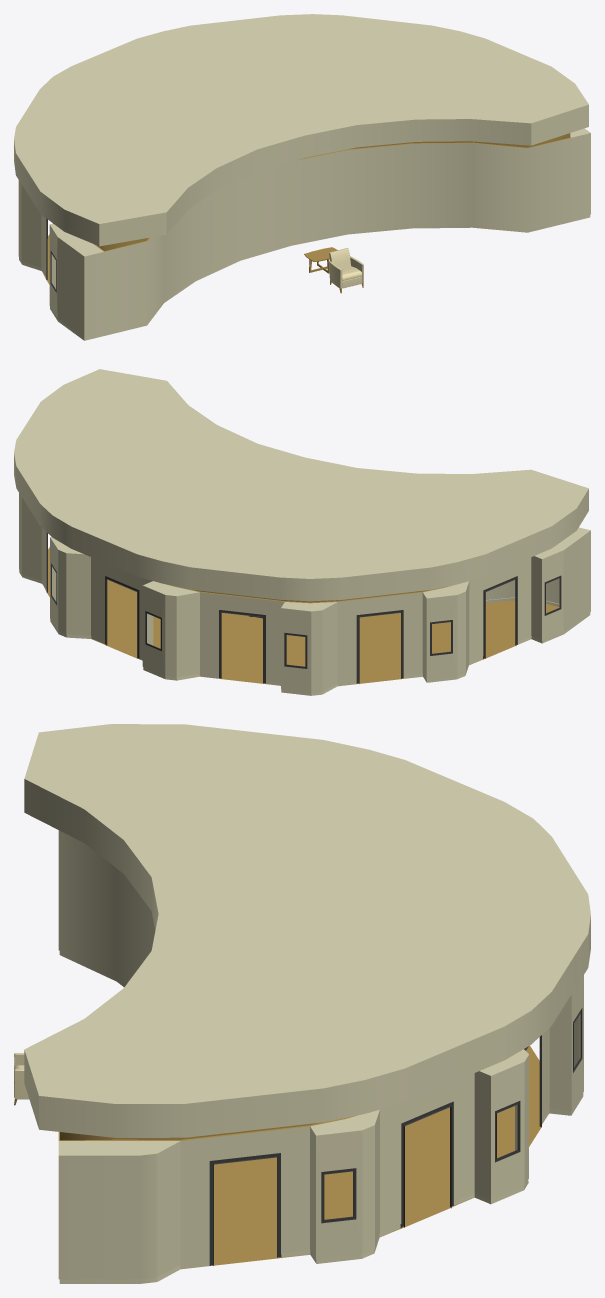
The model's file is Lobby_Tex.fbx.
The picture shows the model from 3 angles, top to bottom: view 1: azimuth 30°, elevation 25°; view 2: azimuth 150°, elevation 25°; view 3: azimuth 270°, elevation 25°; orthographic projection. The views are drawn at different scales.
Visible parts, largest first — view 1: Lobby_Roof, Lobby_Walls, Chair_5, Side_Table1; view 2: Lobby_Roof, Lobby_Walls, Lobby_Floor; view 3: Lobby_Roof, Lobby_Walls, Lobby_Floor.
Boxes of the visible parts, <box> form: Lobby_Roof: <box>14,14,590,256</box>; Lobby_Walls: <box>18,133,590,340</box>; Chair_5: <box>329,248,363,293</box>; Side_Table1: <box>304,247,337,273</box>; Lobby_Roof: <box>14,369,590,611</box>; Lobby_Walls: <box>19,493,590,695</box>; Lobby_Floor: <box>43,547,559,685</box>; Lobby_Roof: <box>24,724,590,1155</box>; Lobby_Walls: <box>58,830,583,1283</box>; Lobby_Floor: <box>214,1045,547,1265</box>.
Bounding box in the file's own units: 1697 × 381 × 1089.
